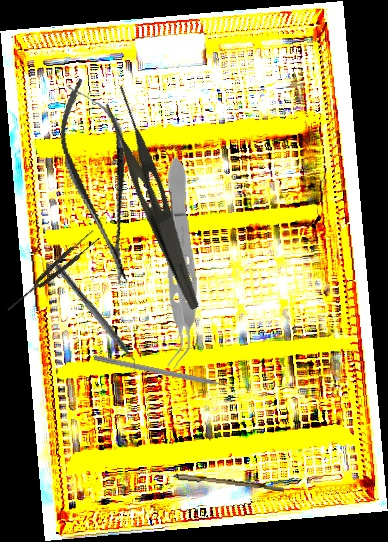Chopper: (48, 263, 145, 376), (92, 354, 238, 399)
Dressing Forceps: (90, 83, 225, 312)
Micro Scissor: (46, 72, 153, 292)
Surgical Spoon: (138, 469, 285, 492)
Tissue Forceps: (159, 156, 200, 371), (3, 229, 101, 315)
